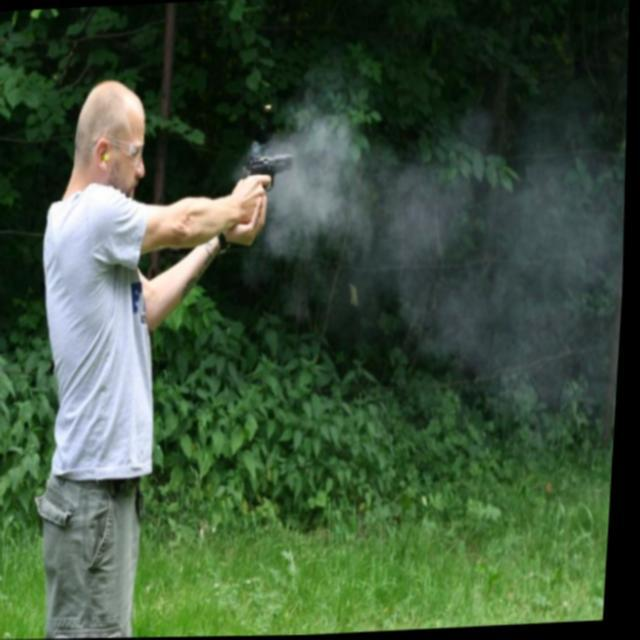weapon: (241, 150, 297, 193)
